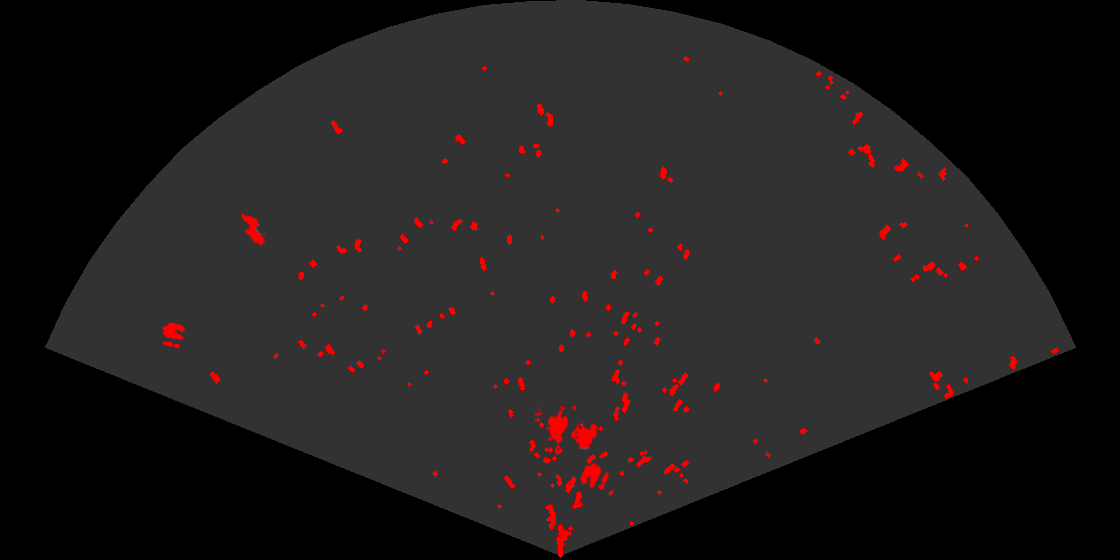AUV: (239, 212, 267, 247)
ball: (579, 461, 611, 492), (161, 321, 187, 350)
cage: (535, 406, 600, 451)
